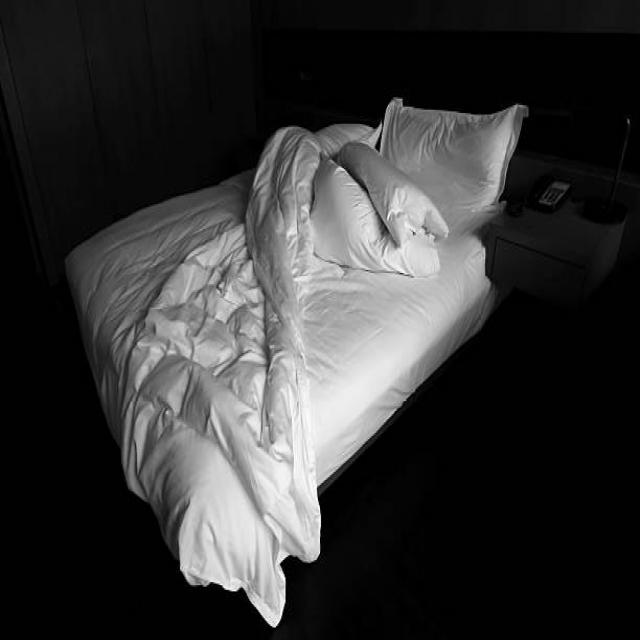bed: (64, 94, 530, 630)
